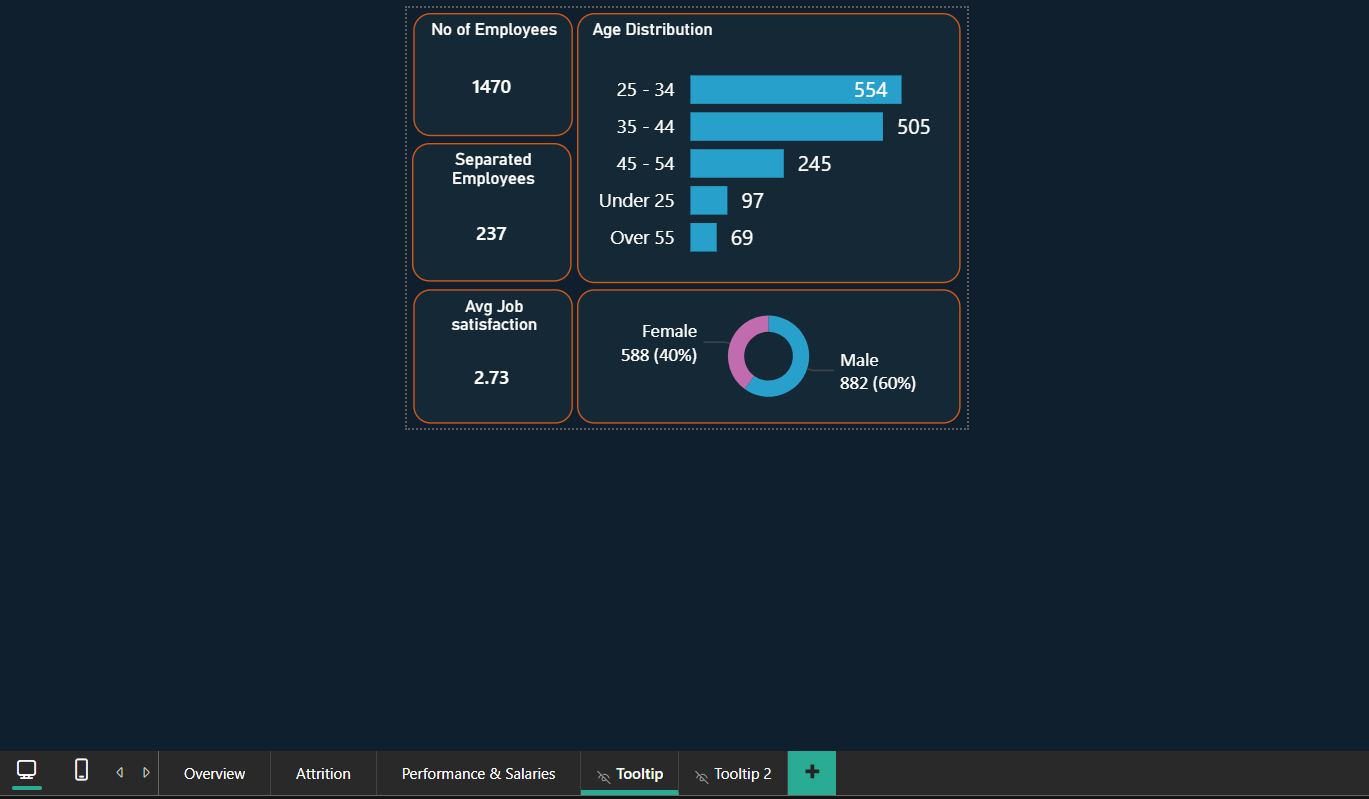

The dashboard page shown, as its layout file describes it:
{"tool":"powerbi","page":{"name":"Tooltip","canvas":[320,240],"ordinal":3},"visuals":[{"type":"cardVisual","title":"No of Employees","fields":{"Data":["_Measures.Total Employees"]},"box":[3.2,2.8,90.9,70.4],"z":0},{"type":"donutChart","fields":{"Category":["HR.Gender"],"Y":["_Measures.Total Employees"]},"box":[97,160.6,219.3,76.9],"z":1000},{"type":"cardVisual","title":"Separated Employees","fields":{"Data":["_Measures.Separated Employees"]},"box":[2.8,76.9,91.3,78.9],"z":2000},{"type":"clusteredBarChart","title":"Age Distribution","fields":{"Category":["HR.CF_age band"],"Y":["_Measures.Total Employees"]},"box":[97,2.8,219.3,154.5],"z":3000},{"type":"cardVisual","title":"Avg Job satisfaction","fields":{"Data":["_Measures.Avg Job Satisfaction"]},"box":[3.2,160.6,90.9,76.9],"z":4000}]}

Visuals, with their boxes on the page's 320x240 design canvas (x1, y1, x2, y2). These are canvas units, not pixel positions in the 1369x799 screenshot, which may show the page scaled, cropped or inside an application window:
"No of Employees" cardVisual: box=[3, 3, 94, 73]
donutChart - HR.Gender x _Measures.Total Employees: box=[97, 161, 316, 238]
"Separated Employees" cardVisual: box=[3, 77, 94, 156]
"Age Distribution" clusteredBarChart: box=[97, 3, 316, 157]
"Avg Job satisfaction" cardVisual: box=[3, 161, 94, 238]
